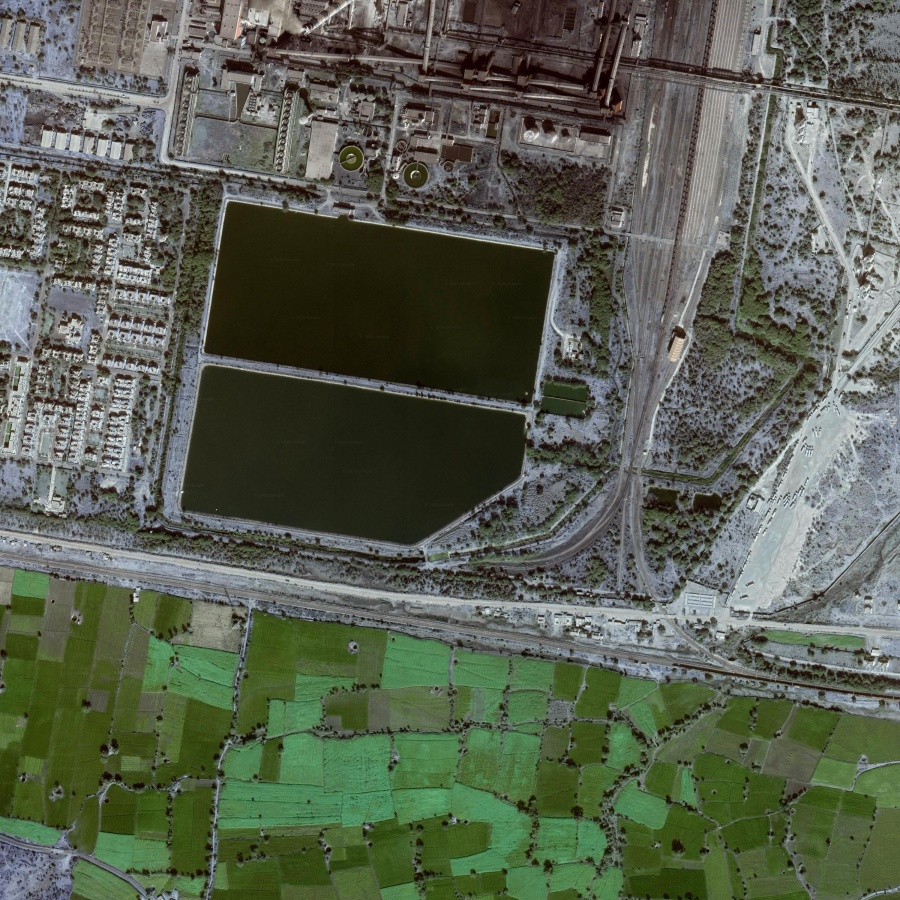PowerPlant: (152, 169, 572, 575)
